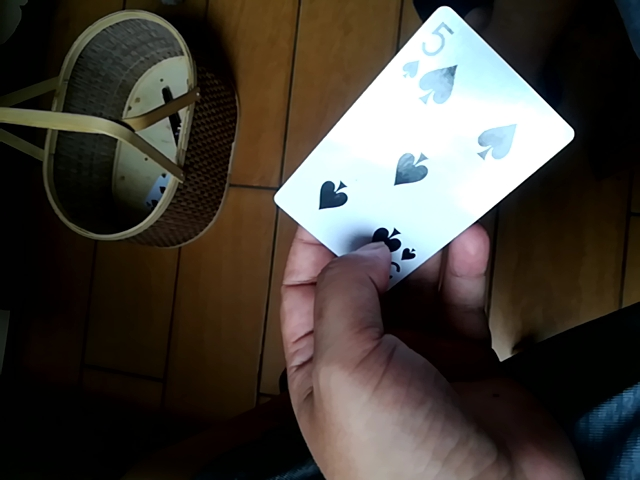ht 5: (274, 5, 577, 288)
